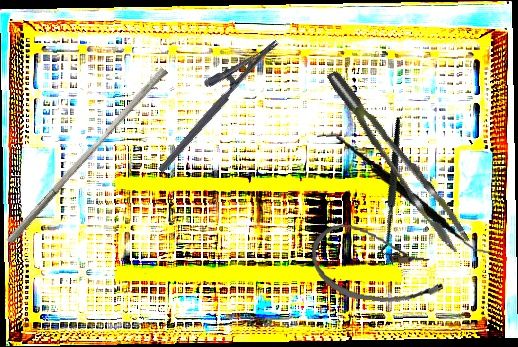Cannula: (307, 221, 449, 309)
Hook Surgical: (329, 116, 463, 263)
Needle Holder: (140, 23, 280, 174)
Pusher: (5, 61, 169, 251)
Spatula Surgical: (305, 131, 504, 258)
Tissue Forceps: (326, 55, 472, 264)
